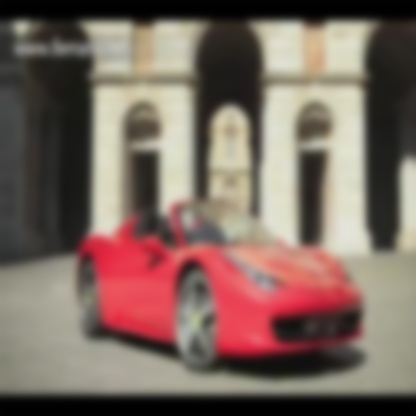Vehicle: (78, 200, 365, 370)
